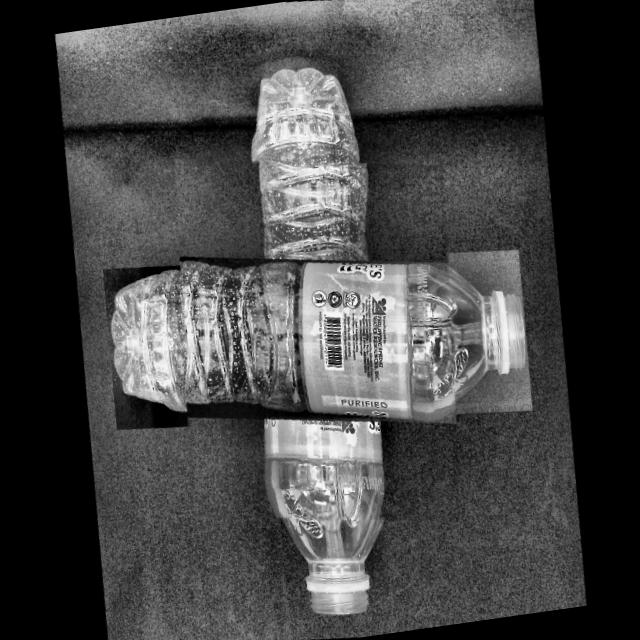Plastic-Bottle: (144, 126, 490, 555)
